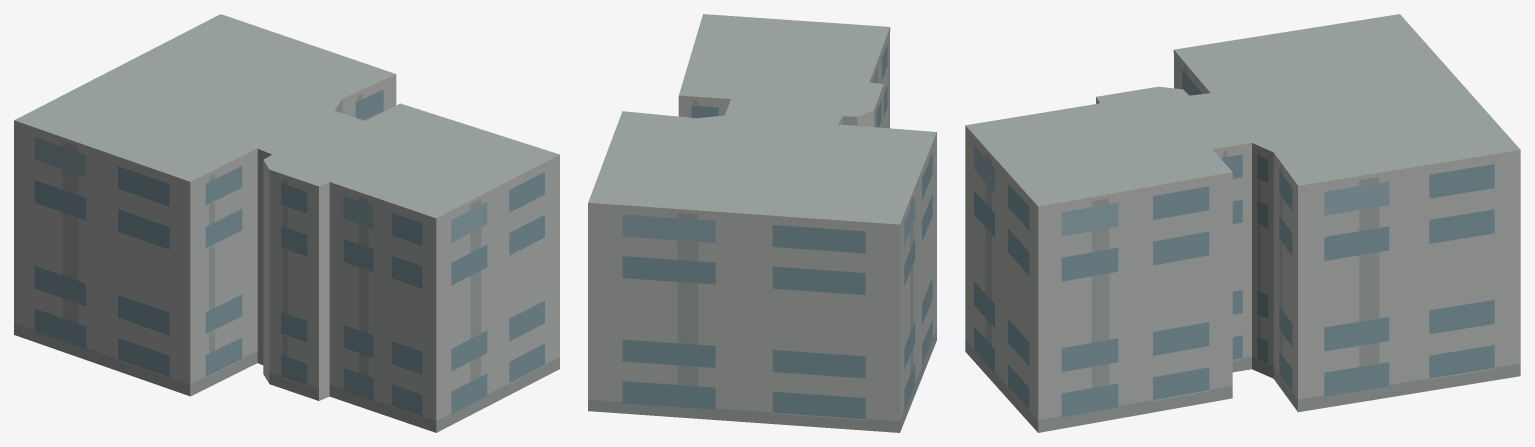
Rendered from survey-upis-32866040.glb.
3 renders of one model, left to right at view 1: azimuth 30°, elevation 25°; view 2: azimuth 150°, elevation 25°; view 3: azimuth 270°, elevation 25°, orthographic. The views are drawn at different scales.
Parts seen in each view (by area): view 1: survey-upis-32866040.tmp; view 2: survey-upis-32866040.tmp; view 3: survey-upis-32866040.tmp.
Part boxes in pixels (x1,y1,x2,y2): survey-upis-32866040.tmp: [14, 14, 559, 432]; survey-upis-32866040.tmp: [588, 14, 936, 432]; survey-upis-32866040.tmp: [965, 14, 1520, 432].
Bounding box in the file's own units: 24.47 × 13.4 × 29.82.
